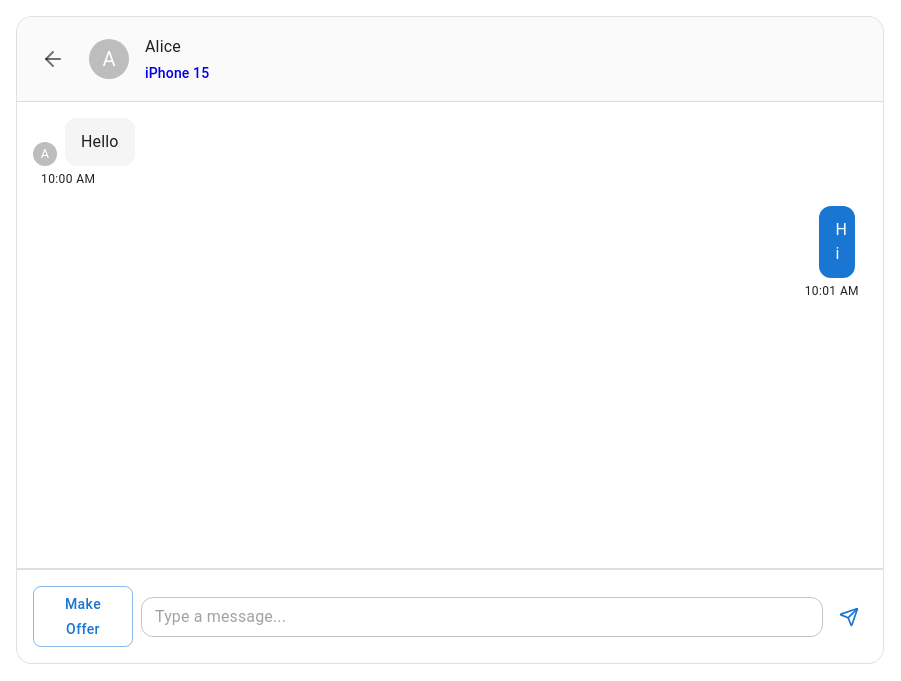
ChatConversationPage Component › opens offer input
Step 1. Click the button "Make Offer" → (83, 616), box [33, 586, 133, 647]
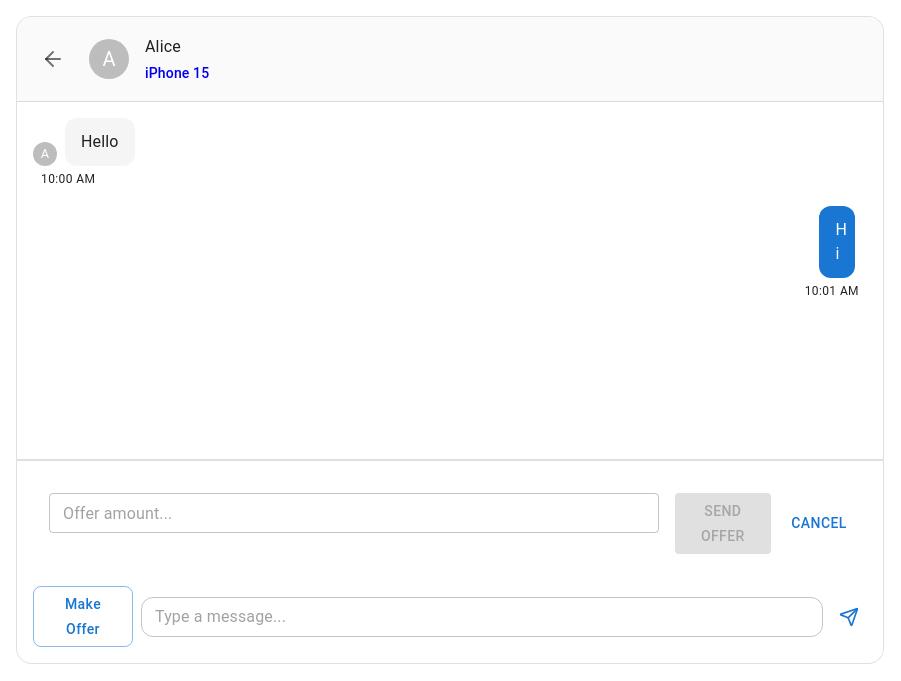
Expected: the number field with placeholder "Offer amount..." is shown, [49, 493, 659, 533]
